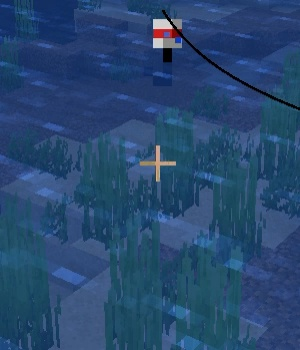up: (147, 9, 189, 87)
